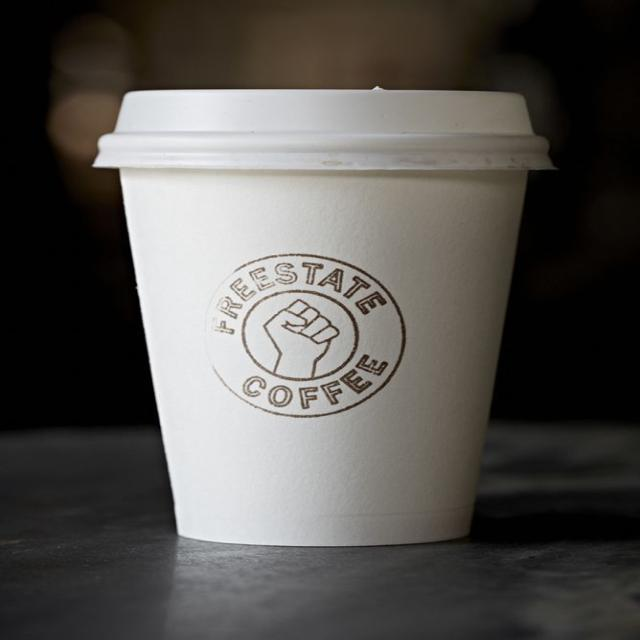paper cup: (95, 89, 556, 547)
